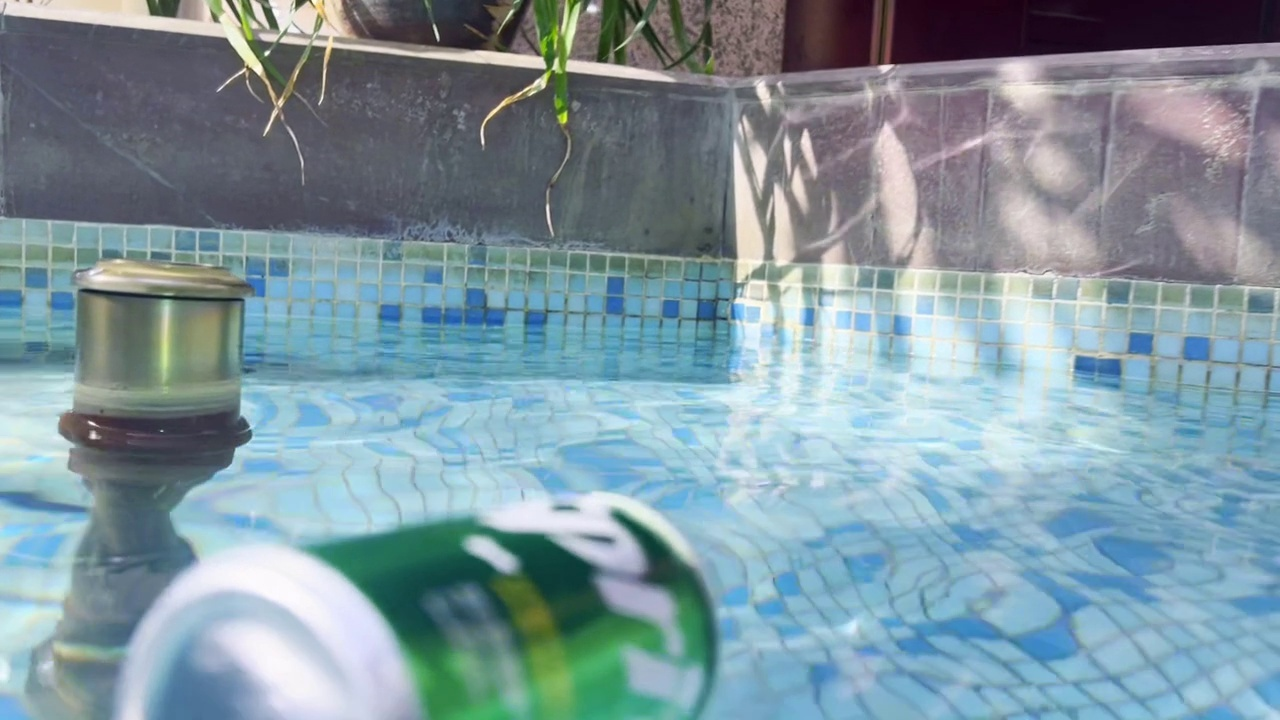debris: (87, 455, 736, 720)
